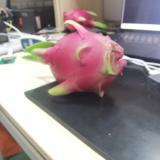pitaya: (42, 23, 127, 97)
